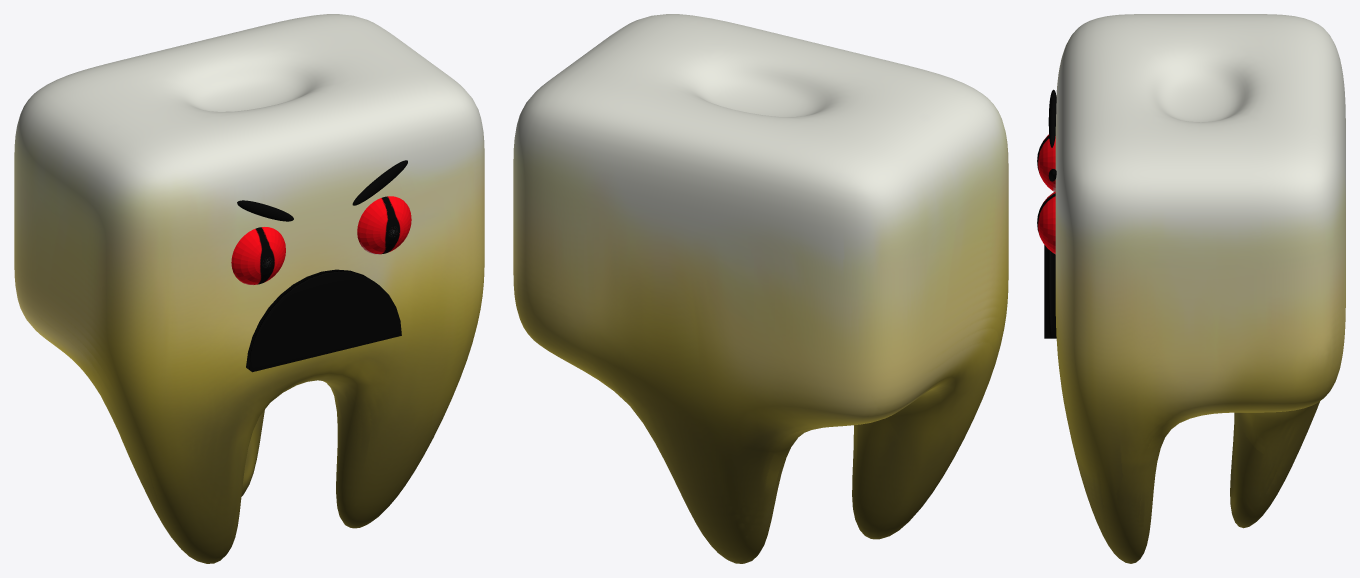
The model's file is smash_weird_face_01.glb.
The picture shows the model from 3 angles, left to right: view 1: azimuth 30°, elevation 25°; view 2: azimuth 150°, elevation 25°; view 3: azimuth 270°, elevation 25°; orthographic projection. The views are drawn at different scales.
Parts seen in each view (by area): view 1: Tooth_0, Mouth_3, Eyes_1, Eyebrows_2; view 2: Tooth_0; view 3: Tooth_0, Eyes_1, Mouth_3, Eyebrows_2.
Boxes of the visible parts, x1,y1,x2,y2 form: Tooth_0: [14, 14, 484, 563]; Mouth_3: [246, 269, 401, 372]; Eyes_1: [231, 196, 411, 285]; Eyebrows_2: [237, 160, 407, 221]; Tooth_0: [513, 14, 1008, 563]; Tooth_0: [1055, 14, 1345, 563]; Eyes_1: [1037, 134, 1055, 254]; Mouth_3: [1044, 245, 1056, 338]; Eyebrows_2: [1048, 89, 1056, 181].
Bounding box in the file's own units: 3 × 3.37 × 2.13.
Materials: 3 (2 with a texture image).
